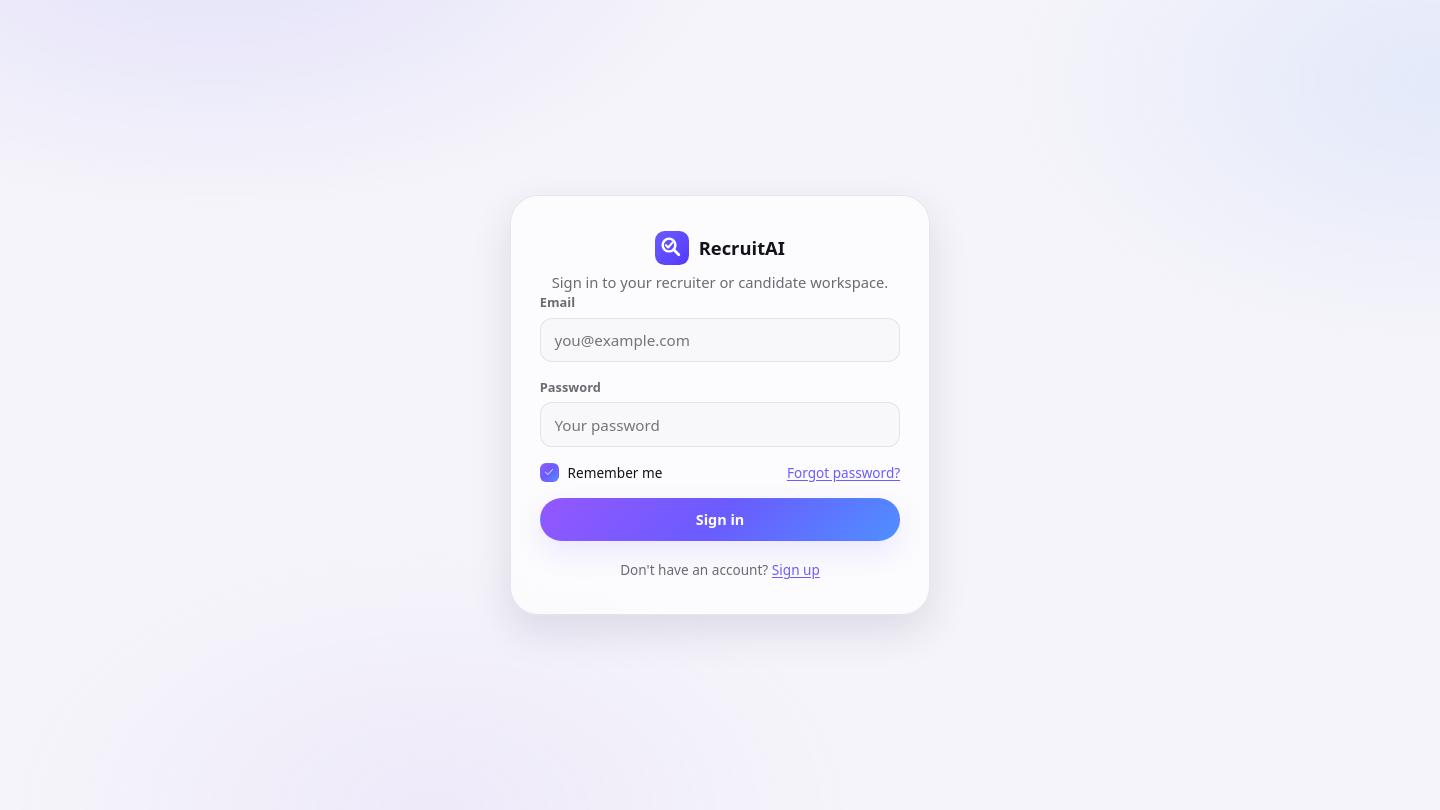
Test case: LoginPage › shows the backend error message and stays on the page when login fails
Type "rachel@example.com" into the field labelled "Email". click: {"x": 720, "y": 340}
box: left=540, top=318, right=900, bottom=362
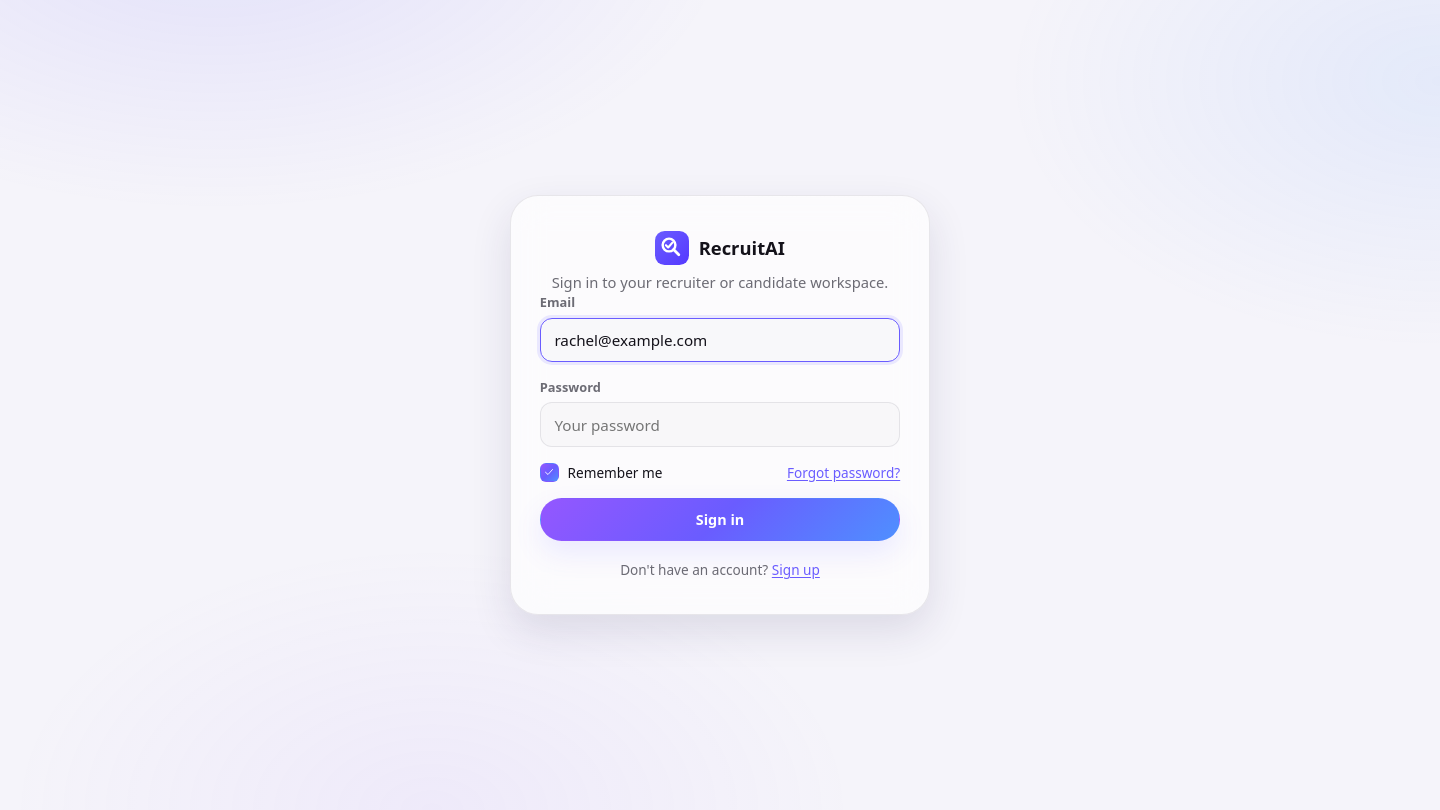
Type "WrongPassword" into the password field labelled "Password". click: {"x": 720, "y": 424}
box: left=540, top=402, right=900, bottom=447
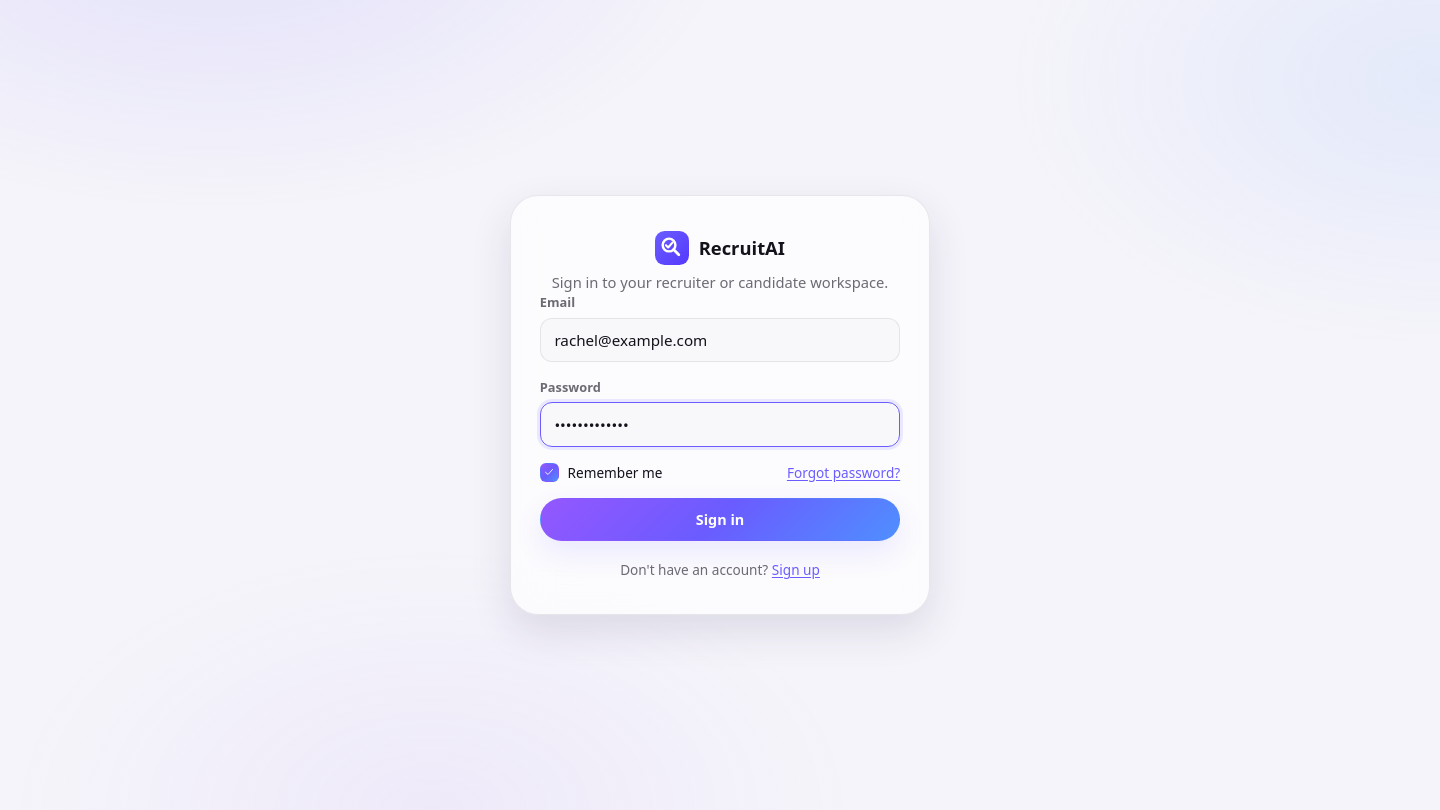
Click the button "Sign in". click: {"x": 720, "y": 519}
box: left=540, top=498, right=900, bottom=541
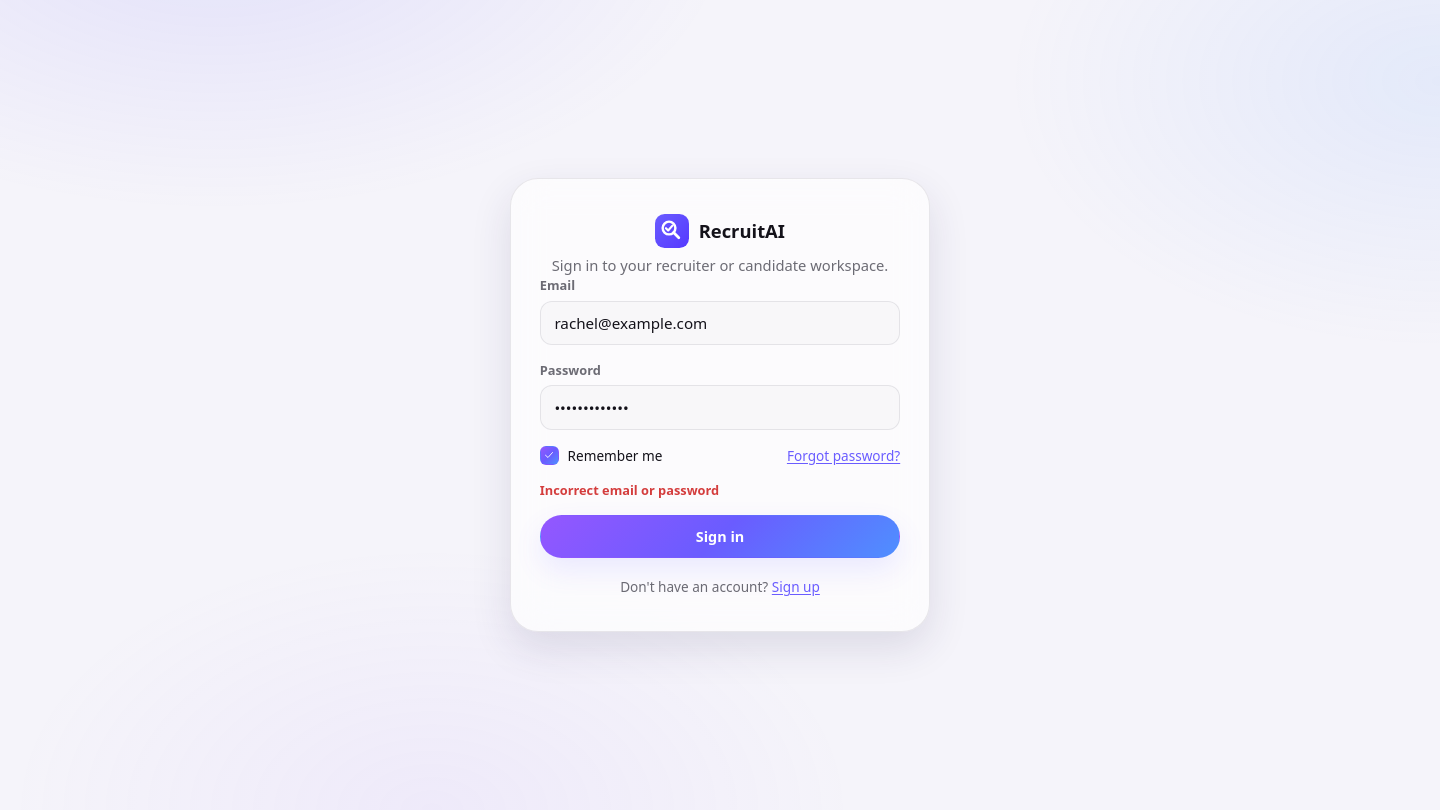
Expected: the button "Sign in" is shown, left=540, top=515, right=900, bottom=558
Expected: the text "Incorrect email or password" is shown, left=540, top=481, right=719, bottom=499
